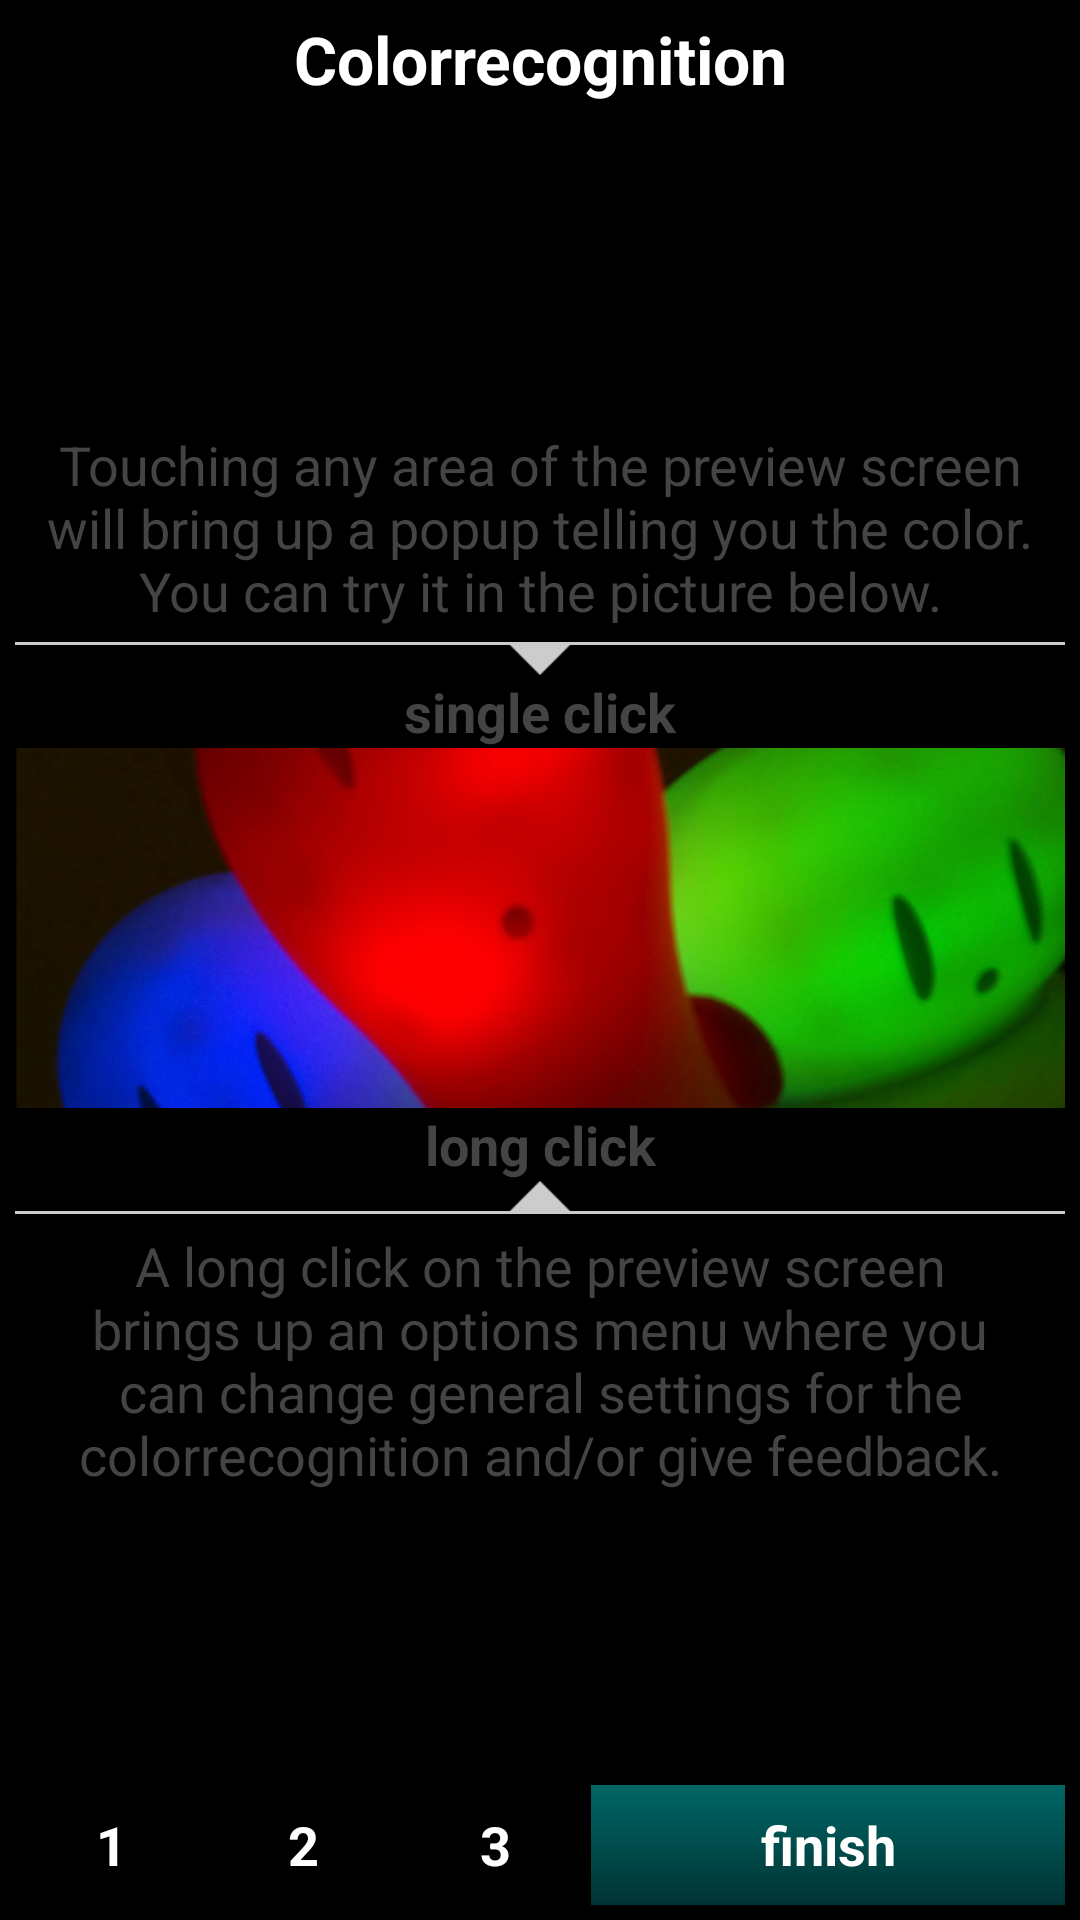

Screen size 1080px×1920px. Icon name, then its center in pixels as (x=x, y=y):
arrow down: (x=540, y=660)
arrow up: (x=540, y=1196)
